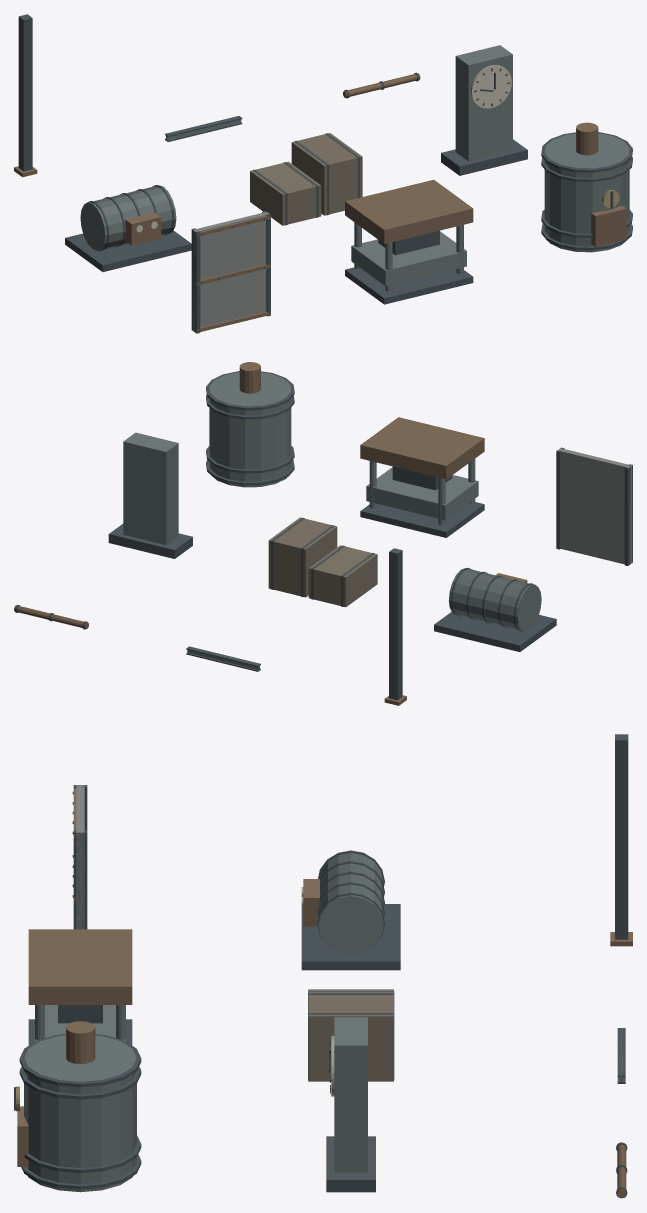
Rendered from kit.glb.
3 renders of one model, top to bottom at view 1: azimuth 30°, elevation 25°; view 2: azimuth 150°, elevation 25°; view 3: azimuth 270°, elevation 25°, orthographic. The views are drawn at different scales.
Visible parts, largest first — view 1: Boiler drum, Panel, Head, Clock case, Packing crate.001, Rotor casing, Packing crate, Press table, Generator base, Steel column, Base, Dial (+11 smaller); view 2: Boiler drum, Panel, Clock case, Head, Rotor casing, Packing crate.001, Press table, Packing crate, Generator base, Steel column, Base, Clock plinth (+8 smaller); view 3: Boiler drum, Head, Rotor casing, Clock case, Packing crate.001, Generator base, Steel column, Clock plinth, Panel, Stack, Upright.001, Band.003 (+6 smaller).
Part boxes in pixels (bbox=[...]): Boiler drum: bbox=[544, 133, 629, 252]; Panel: bbox=[192, 212, 269, 332]; Head: bbox=[345, 179, 473, 243]; Clock case: bbox=[455, 45, 512, 161]; Packing crate.001: bbox=[291, 133, 362, 215]; Rotor casing: bbox=[80, 185, 176, 250]; Packing crate: bbox=[250, 161, 321, 225]; Press table: bbox=[351, 231, 466, 286]; Generator base: bbox=[65, 230, 191, 271]; Steel column: bbox=[18, 14, 32, 171]; Base: bbox=[345, 267, 473, 304]; Dial: bbox=[470, 65, 511, 108]; Boiler drum: bbox=[209, 372, 291, 487]; Panel: bbox=[557, 448, 631, 564]; Clock case: bbox=[123, 432, 178, 544]; Head: bbox=[360, 417, 484, 479]; Rotor casing: bbox=[448, 568, 541, 631]; Packing crate.001: bbox=[268, 517, 337, 597]; Press table: bbox=[366, 467, 478, 520]; Packing crate: bbox=[308, 545, 377, 607]; Generator base: bbox=[434, 612, 556, 651]; Steel column: bbox=[389, 548, 402, 700]; Base: bbox=[360, 502, 484, 537]; Clock plinth: bbox=[108, 524, 192, 558]; Boiler drum: bbox=[24, 1035, 136, 1192]; Head: bbox=[28, 929, 132, 1004]; Rotor casing: bbox=[318, 850, 383, 955]; Clock case: bbox=[334, 1017, 367, 1172]; Packing crate.001: bbox=[308, 991, 393, 1081]; Generator base: bbox=[301, 904, 400, 970]; Steel column: bbox=[615, 734, 628, 939]; Clock plinth: bbox=[326, 1136, 375, 1192]; Panel: bbox=[76, 785, 84, 929]; Stack: bbox=[66, 1021, 95, 1064]; Upright.001: bbox=[73, 830, 87, 929]; Band.003: bbox=[19, 1034, 141, 1087].
Size of the model in its own units: 29.7 by 10.25 by 27.45.
